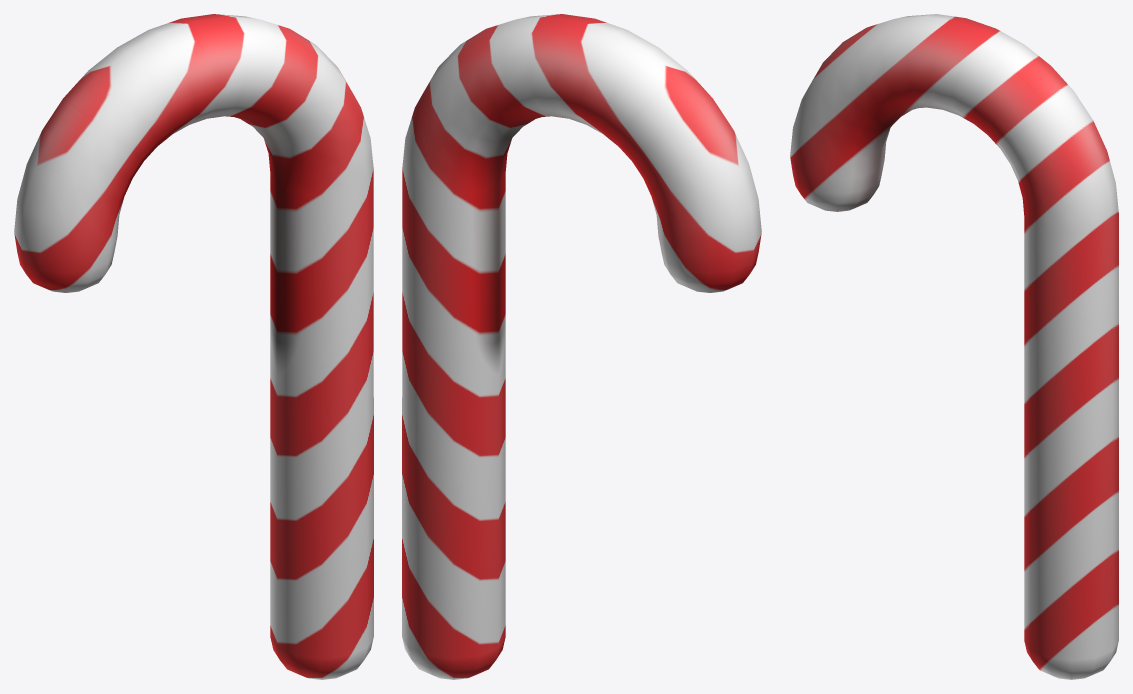
File: candy.glb
3 renders of one model, left to right at view 1: azimuth 30°, elevation 25°; view 2: azimuth 150°, elevation 25°; view 3: azimuth 330°, elevation 25°, orthographic. The views are drawn at different scales.
Parts seen in each view (by area): view 1: Candy; view 2: Candy; view 3: Candy.
Part boxes in pixels (x1,y1,x2,y2): Candy: (14,14,373,679); Candy: (402,14,761,679); Candy: (790,14,1118,679).
Bounding box in the file's own units: 0.167 × 0.314 × 0.0433.
1 material, 1 textured.
